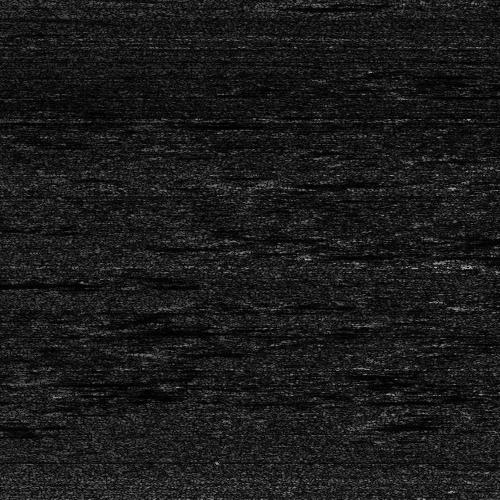rock: (88, 324, 181, 333), (22, 379, 95, 384), (456, 303, 500, 308), (0, 278, 24, 287), (255, 5, 296, 8), (472, 257, 500, 260)
shadow: (135, 324, 275, 333), (0, 278, 108, 287), (59, 379, 164, 384), (276, 5, 361, 8), (0, 422, 11, 431), (488, 303, 500, 308), (488, 257, 500, 260)
